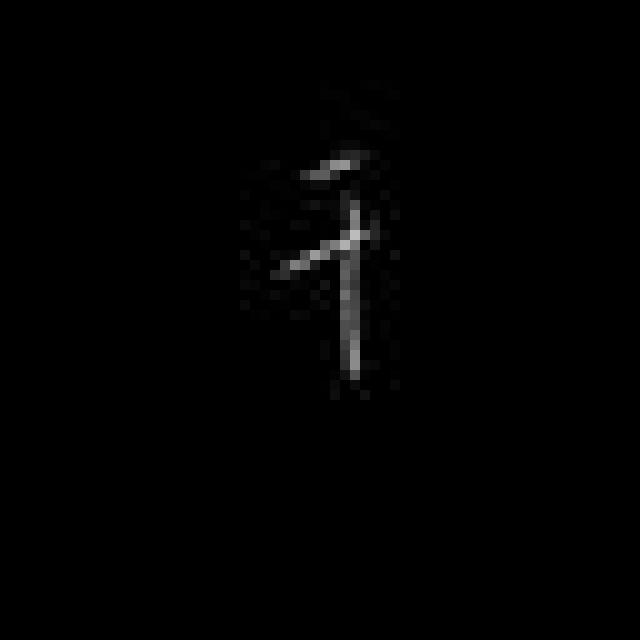1000 -a thousand-: (263, 145, 392, 387)
